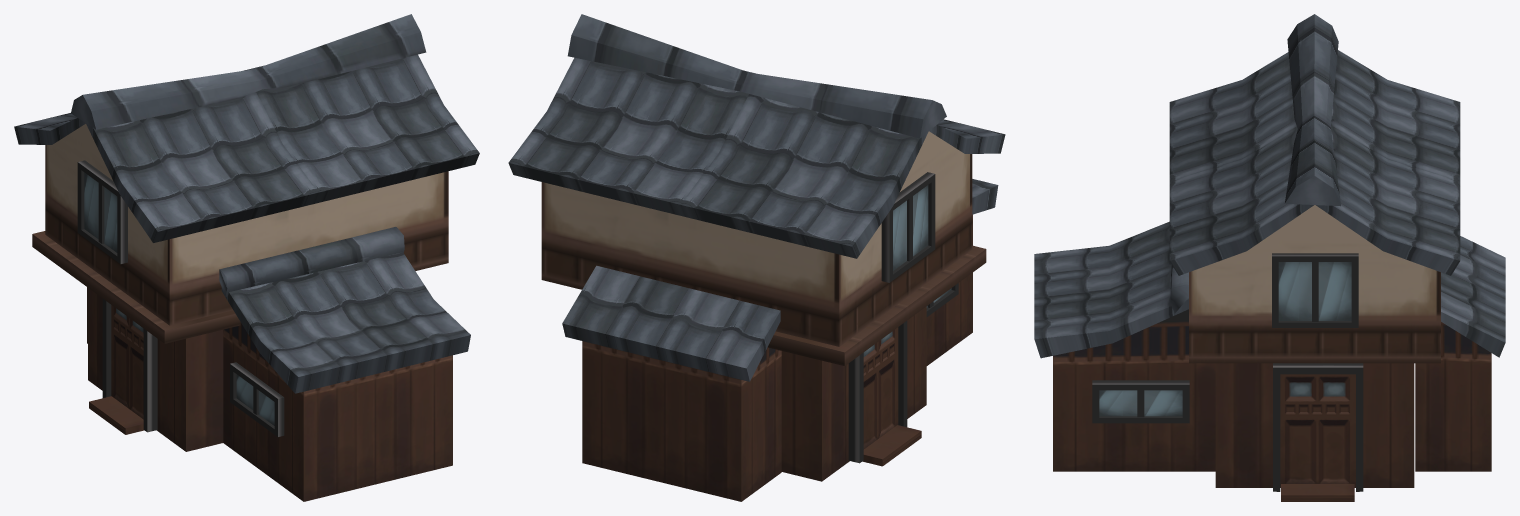
The model's file is old house-3.FBX.
3 renders of one model, left to right at view 1: azimuth 30°, elevation 25°; view 2: azimuth 150°, elevation 25°; view 3: azimuth 270°, elevation 25°, orthographic. The views are drawn at different scales.
Parts seen in each view (by area): view 1: old house-3; view 2: old house-3; view 3: old house-3.
Part boxes in pixels (bbox=[...]): old house-3: bbox=[14, 14, 479, 501]; old house-3: bbox=[508, 14, 1005, 501]; old house-3: bbox=[1034, 14, 1505, 501].
Bounding box in the file's own units: 2691 × 2623 × 3301.
